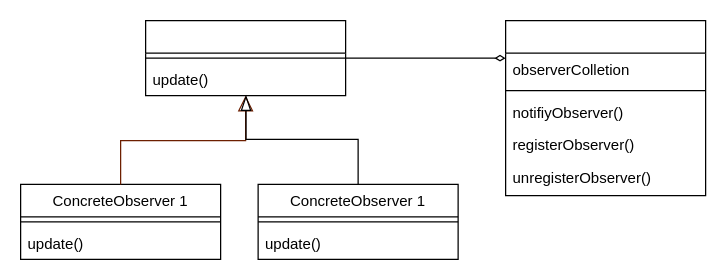
The diagram is 726 pixels wide and 280 high, and some of its shapes have lost their labels. Each missing label, with the box of its shape:
Observer: (144, 19, 346, 96)
Subject: (504, 19, 706, 196)
